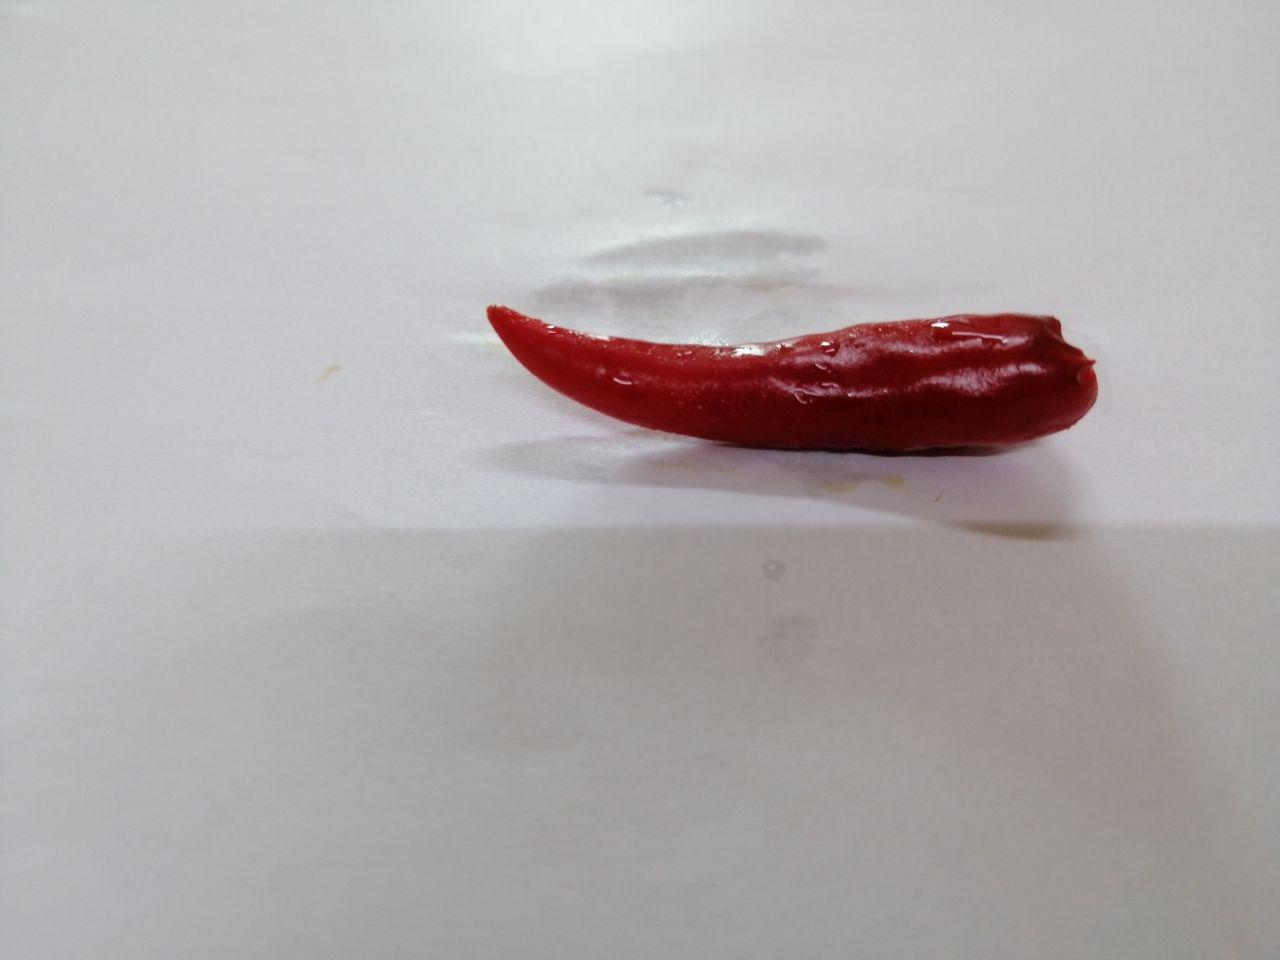lada merah: (455, 278, 1130, 472)
